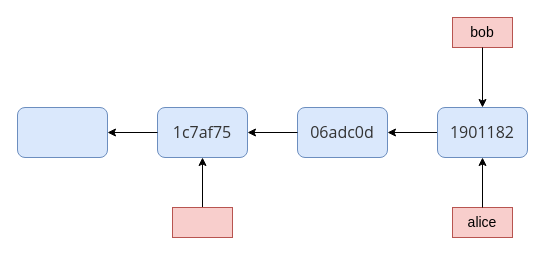
Image size: 545x255. Some labels were removed from this diagram. Here are the shapes that lost their labels. From the top down, the box of each, then its label:
(16, 106, 108, 158): c2a93da
(172, 206, 232, 238): master
